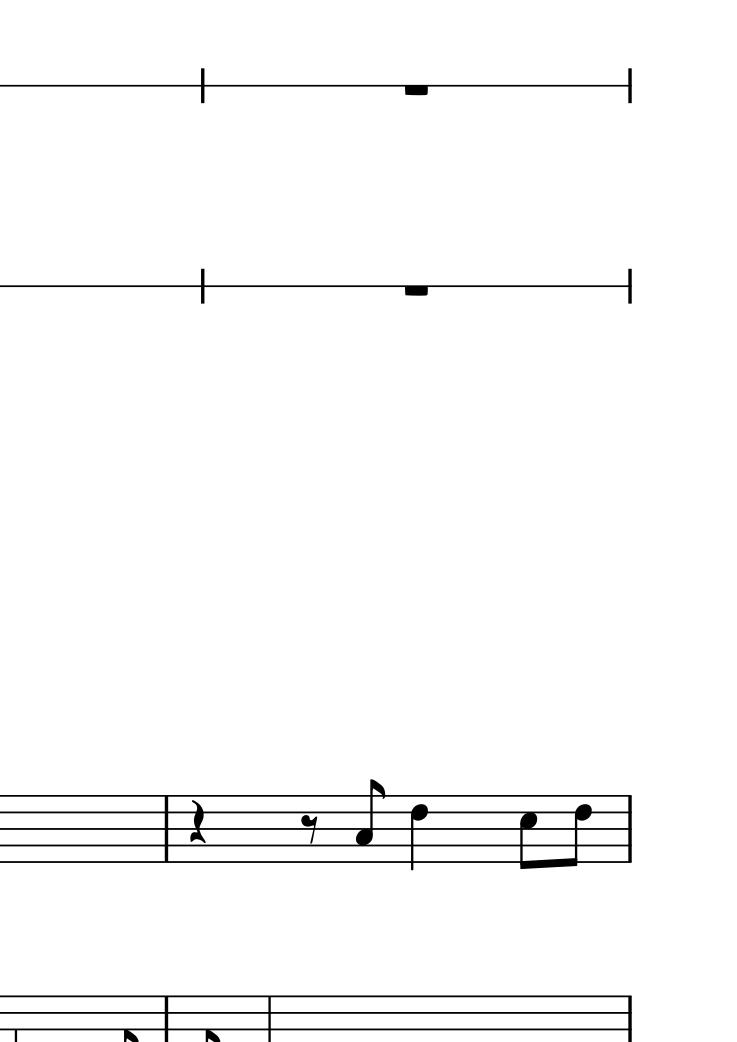4_6: (408, 794, 432, 875)
8_3: (356, 778, 386, 864)
8_5: (516, 794, 541, 872)
8_6: (563, 794, 592, 869)
Rests1: (399, 279, 435, 314), (399, 82, 433, 101)
Rests4: (186, 798, 209, 844)
Rests8: (299, 812, 320, 846)
Single_barline: (621, 795, 638, 863), (158, 795, 175, 862)
